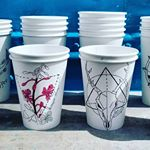cups: (76, 41, 142, 135), (6, 43, 73, 134)
